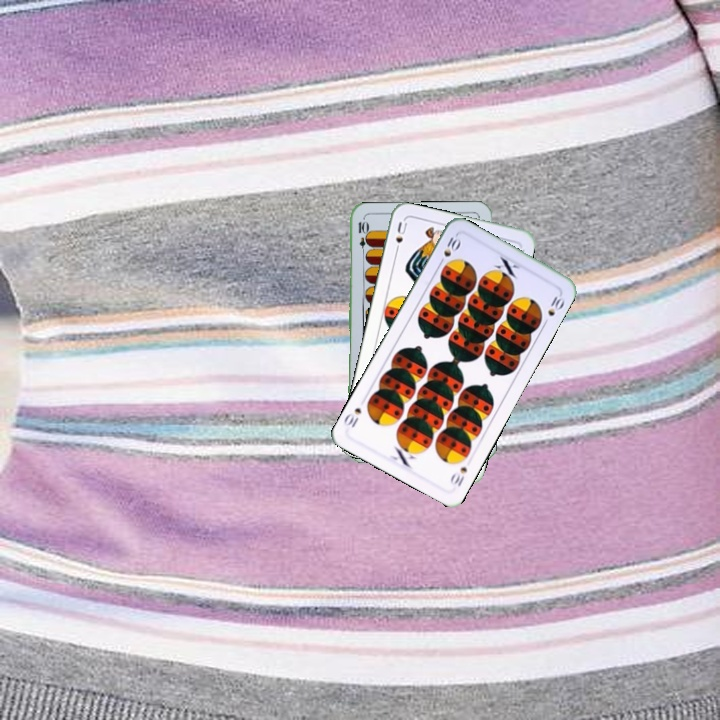E10: (354, 217, 368, 258)
S10: (434, 233, 463, 268), (446, 463, 470, 489)
SU: (391, 218, 410, 257)
